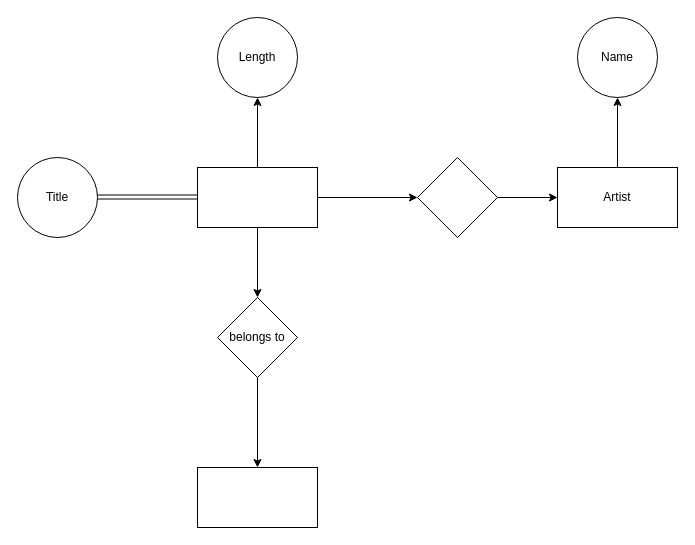
This 695x545 diagram has some shape labels left out. The centre of each missing label's shape, as x and y in pixels:
"Album" belongs at [257,497].
"Song" belongs at [257,197].
"Written By" belongs at [457,197].
